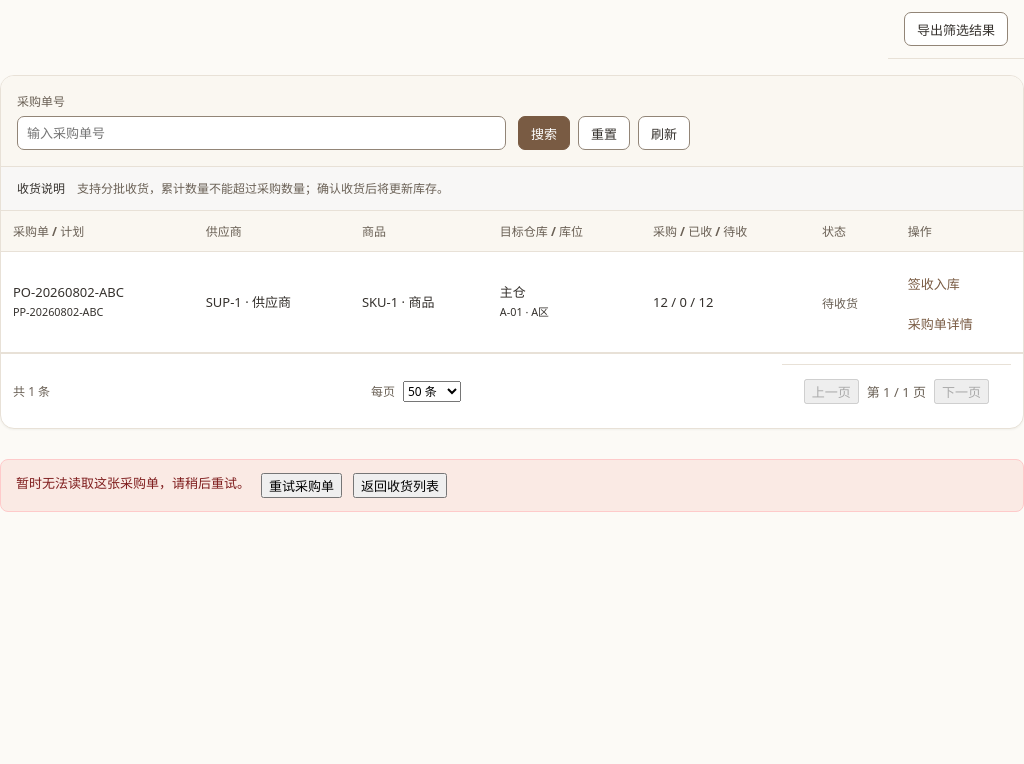
Test: procurement receiving page › retries a failed direct receipt workspace without discarding its identity
Click the button "重试采购单" at x=302, y=486, box [261,473,342,498]
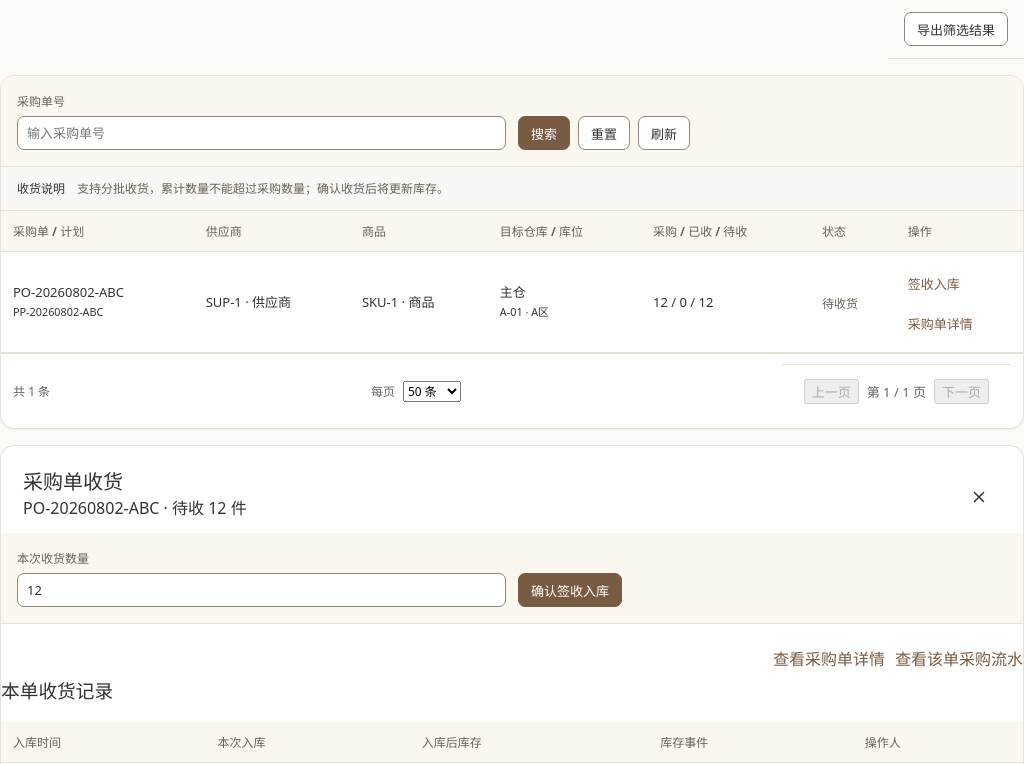
Expected: the heading "采购单收货" is shown, [23,468,123,495]
